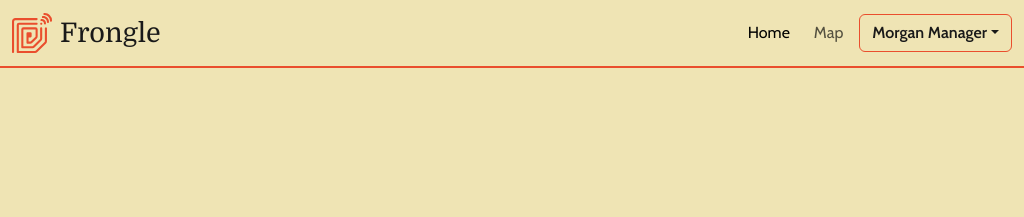
Test: keeps the account dropdown closed until the user opens it
Click the button "Morgan Manager" at coordinates (936, 33), box [859,14,1012,52]
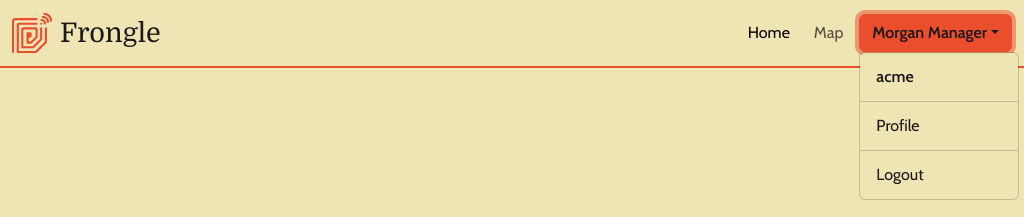
Check: the button "Morgan Manager" is expanded, box [859,14,1012,52]
